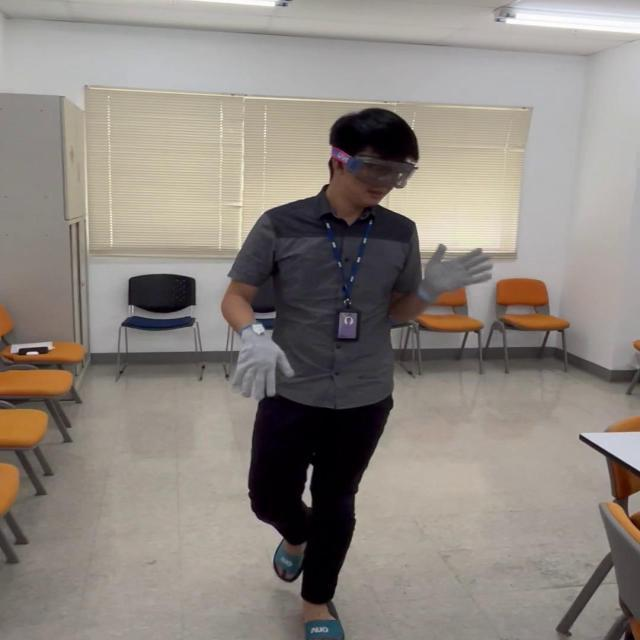gloved_hand: (231, 319, 296, 402), (413, 240, 490, 294)
